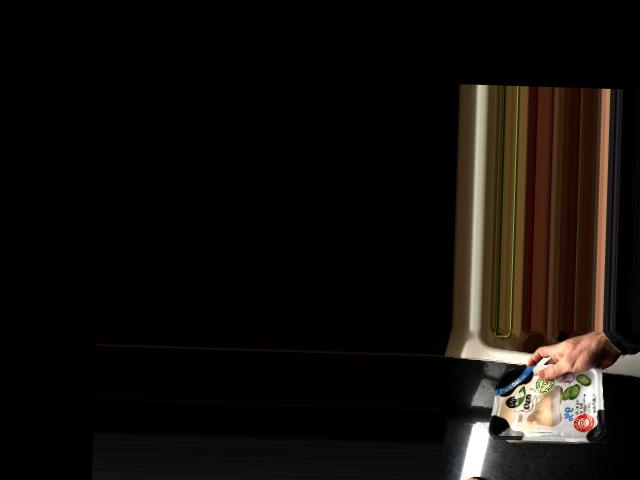cheese: (491, 354, 607, 443)
